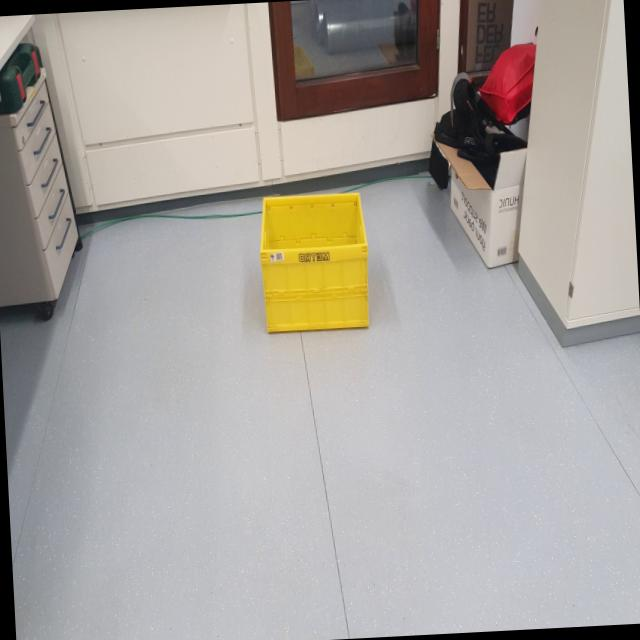box: (254, 184, 380, 349)
